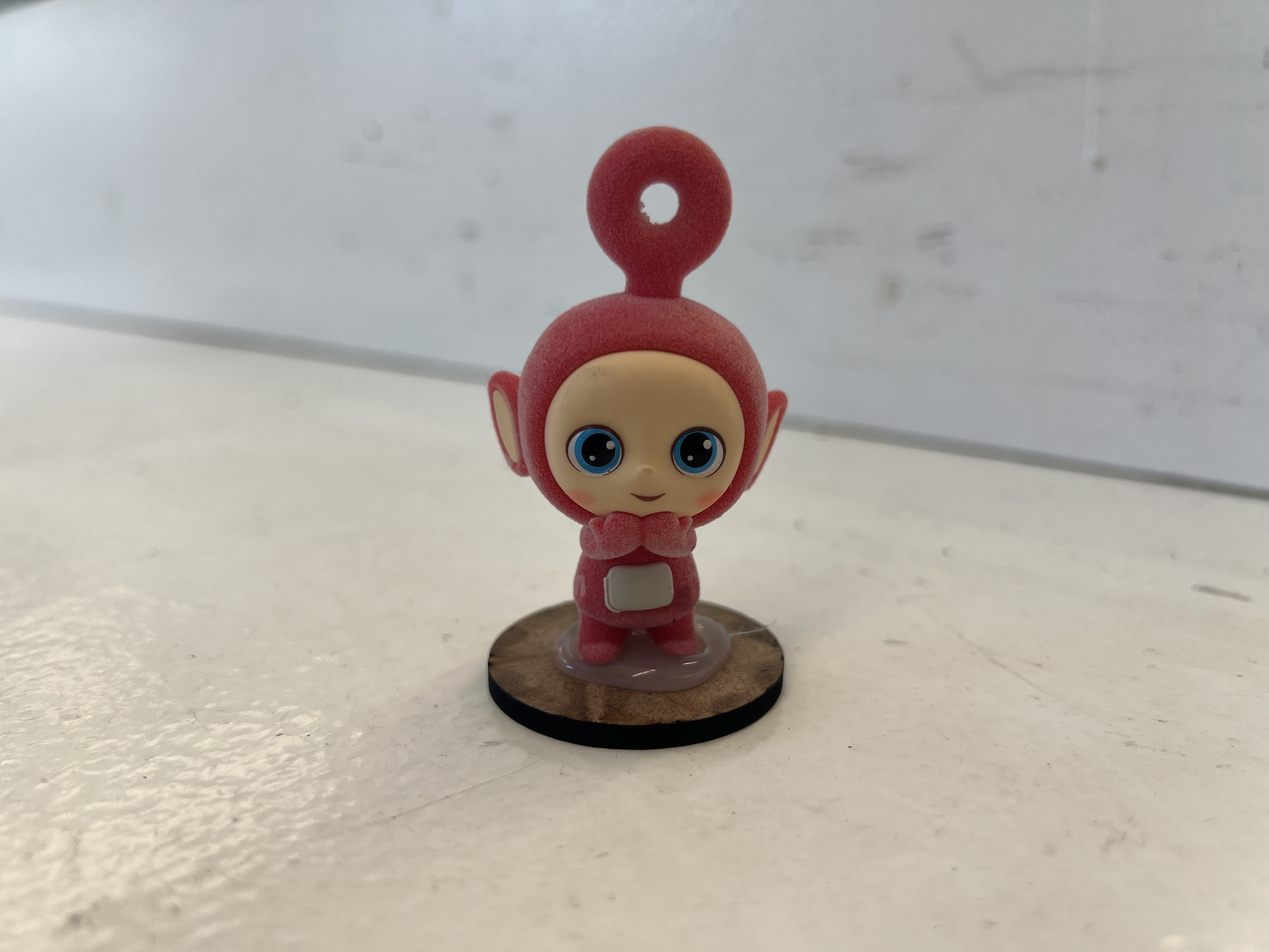teletubby: (489, 127, 787, 663)
